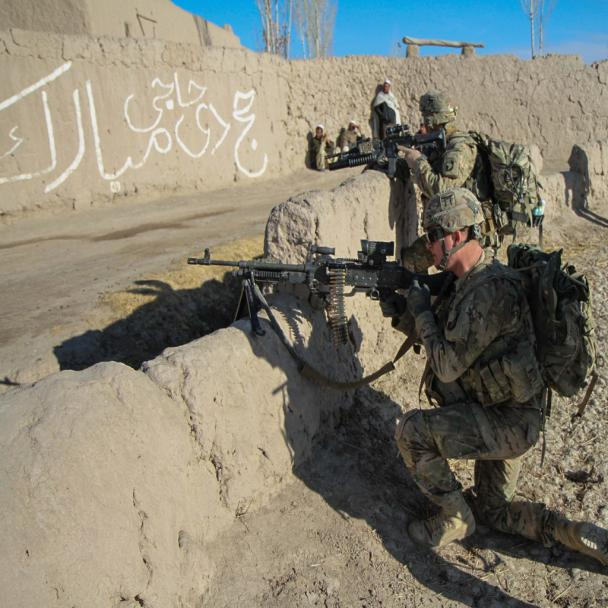Gun: (176, 230, 439, 322), (322, 133, 456, 171)
